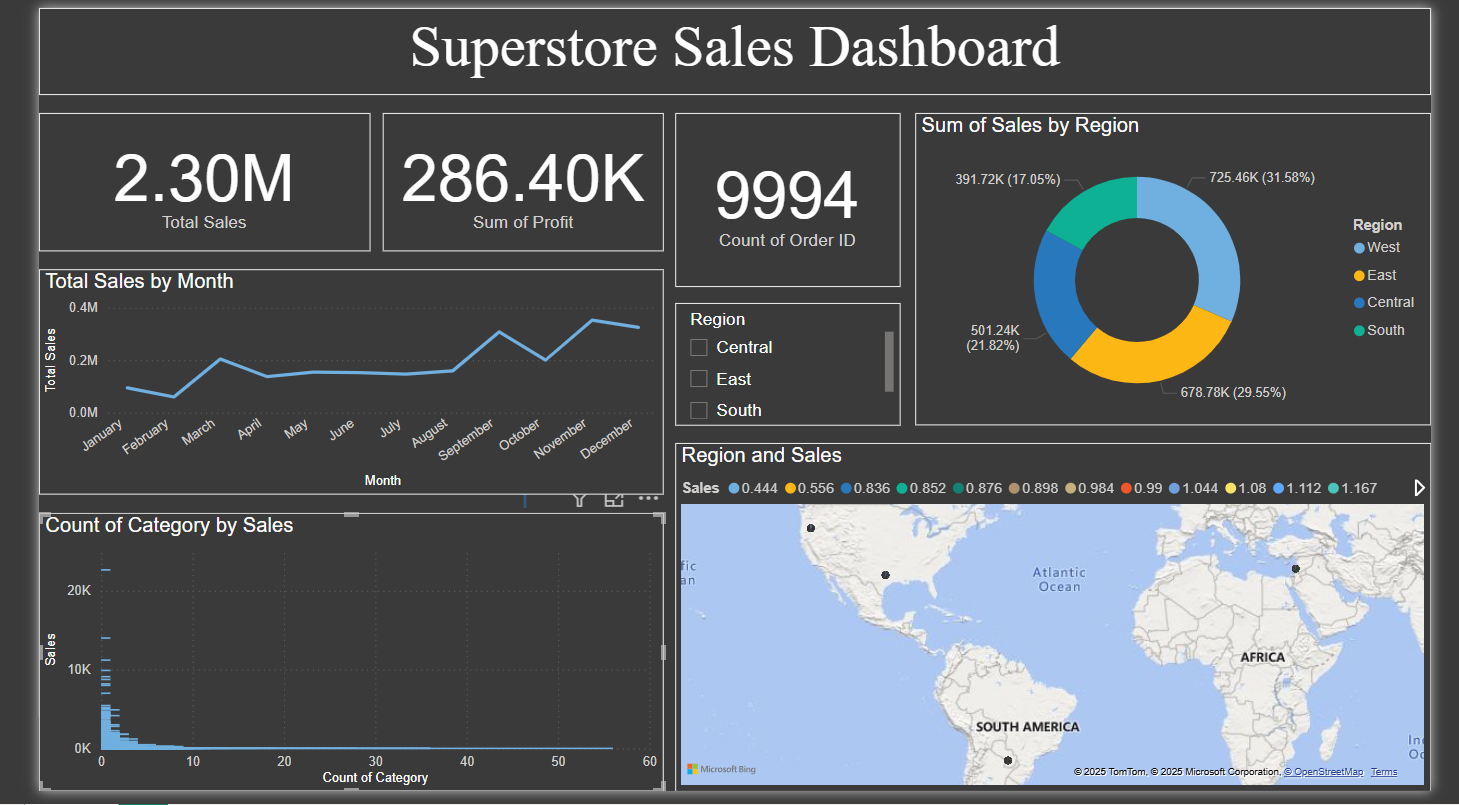

Layout of this report page (visuals, bound fields, positions):
{"tool":"powerbi","page":{"name":"Page 1","canvas":[1280,720],"ordinal":0},"visuals":[{"type":"textbox","box":[0,0,1280,80],"z":0},{"type":"card","fields":{"Values":["Superstore_Sales.Total Sales"]},"box":[0,96.6,304.6,127.6],"z":1000},{"type":"card","fields":{"Values":["Sum(Superstore_Sales.Profit)"]},"box":[316.1,96.6,258.6,127.6],"z":2000},{"type":"card","fields":{"Values":["CountNonNull(Superstore_Sales.Order ID)"]},"box":[585.1,96.6,206.9,159.8],"z":3000},{"type":"clusteredBarChart","fields":{"Category":["Superstore_Sales.Sales"],"Y":["CountNonNull(Superstore_Sales.Category)"]},"box":[0,464.4,574.7,256.3],"z":4000},{"type":"lineChart","fields":{"Category":["Superstore_Sales.Order Date.Variation.Date Hierarchy.Month"],"Y":["Superstore_Sales.Total Sales"]},"box":[0,240.2,574.7,206.9],"z":5000},{"type":"map","fields":{"Category":["Superstore_Sales.Region"],"Series":["Superstore_Sales.Sales"]},"box":[585.1,400,695.4,320.7],"z":6000},{"type":"donutChart","fields":{"Category":["Superstore_Sales.Region"],"Y":["Sum(Superstore_Sales.Sales)"]},"box":[805.7,96.6,474.7,287.4],"z":7000},{"type":"slicer","fields":{"Values":["Superstore_Sales.Region"]},"box":[585.1,271.3,206.9,112.6],"z":8000}]}

Visuals, with their boxes in screenshot pixels (x1, y1, x2, y2), scaled from the page's 1280x720 canvas onto the 1459x805 screenshot:
textbox: Rect(0, 0, 1458, 89)
card - Superstore_Sales.Total Sales: Rect(0, 108, 347, 251)
card - Sum(Superstore_Sales.Profit): Rect(360, 108, 655, 251)
card - CountNonNull(Superstore_Sales.Order ID): Rect(667, 108, 903, 287)
clusteredBarChart - Superstore_Sales.Sales x CountNonNull(Superstore_Sales.Category): Rect(0, 519, 655, 804)
lineChart - Superstore_Sales.Order Date.Variation.Date Hierarchy.Month x Superstore_Sales.Total Sales: Rect(0, 269, 655, 500)
map - Superstore_Sales.Region x Superstore_Sales.Sales: Rect(667, 447, 1458, 804)
donutChart - Superstore_Sales.Region x Sum(Superstore_Sales.Sales): Rect(918, 108, 1458, 429)
slicer - Superstore_Sales.Region: Rect(667, 303, 903, 429)
